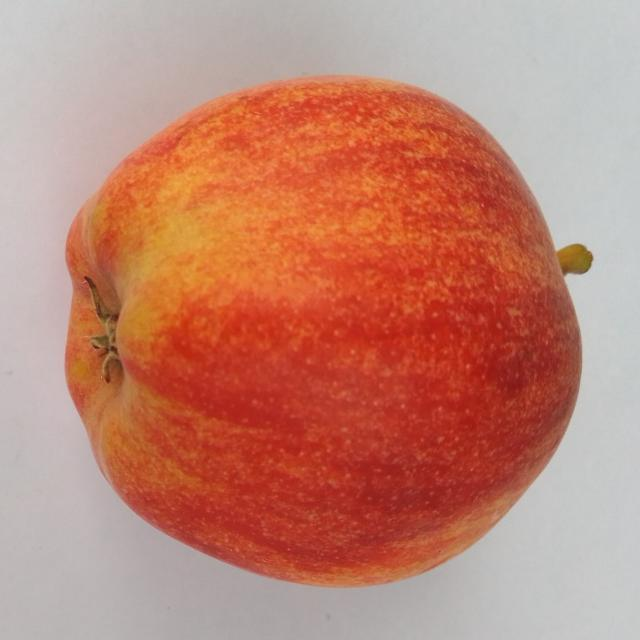Fresh Apple: (62, 73, 590, 600)
